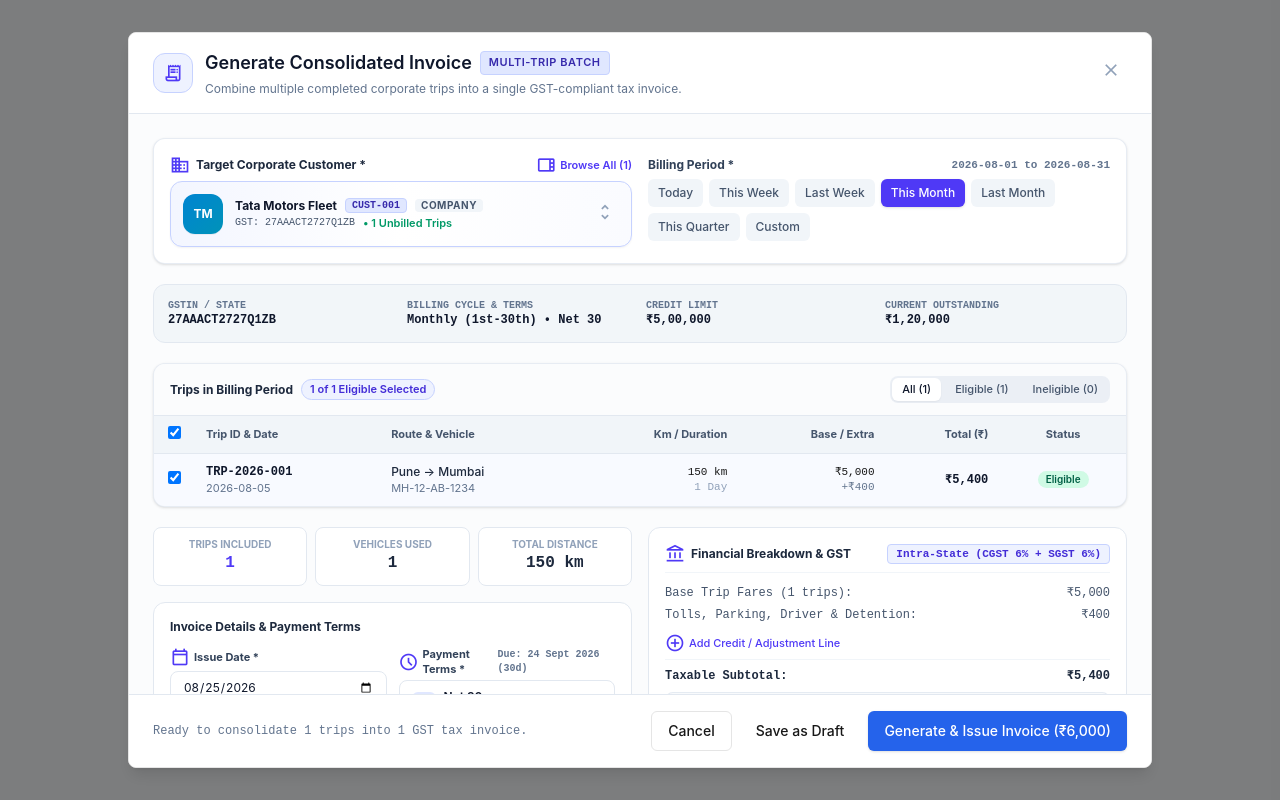
Test case: ConsolidatedInvoiceModal › allows switching between trip filter tabs
The image size is (1280, 800).
Expected: the button "Browse All (1)" is shown, [536,155,632,175]
Expected: the button "Ineligible (0)" is shown, [1023,378,1108,401]
Click the button "Eligible (1)".
click(982, 390)  # box [945,378,1019,401]
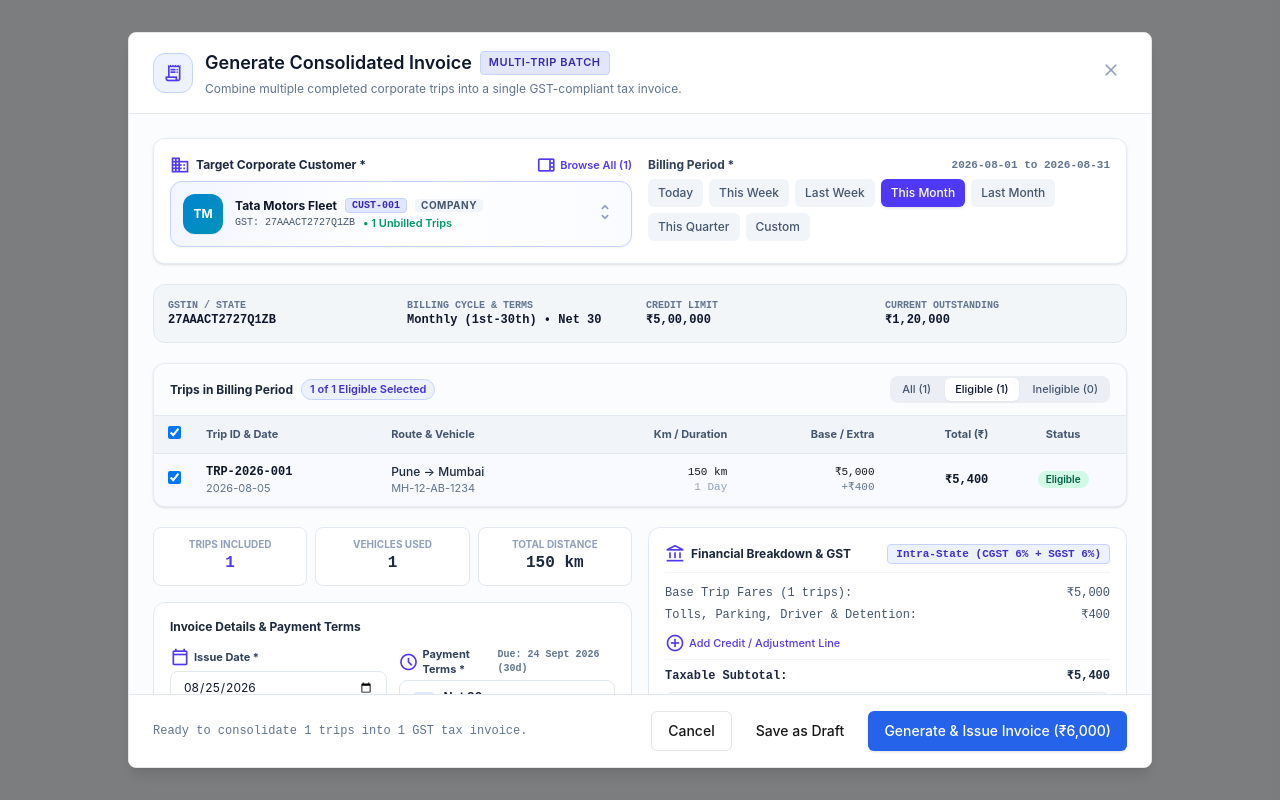
Expected: the text "TRP-2026-001" is shown, [206,465,292,479]
Click the button "Ineligible (0)".
click(1065, 390)  # box [1023,378,1108,401]
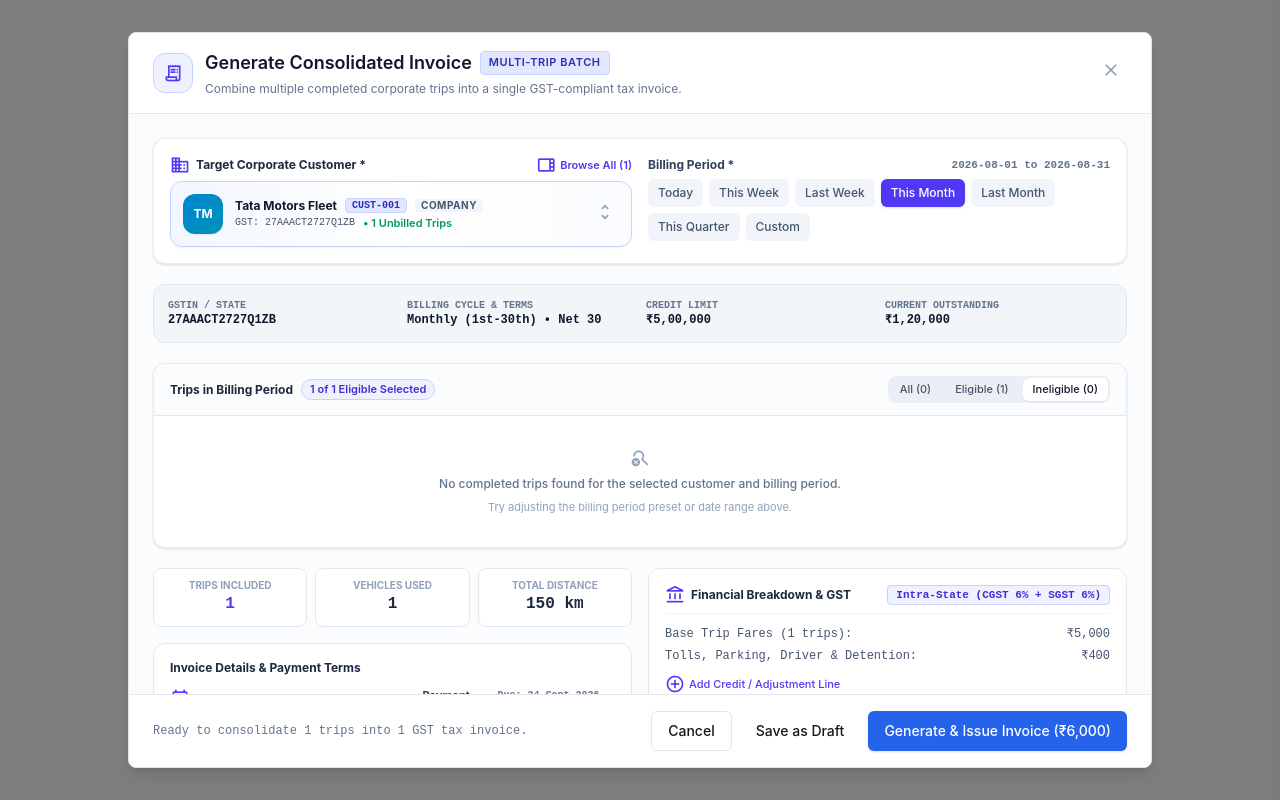
Now the text "No completed trips found for the selected customer and billing period" is shown, box [439,476,841,491]
